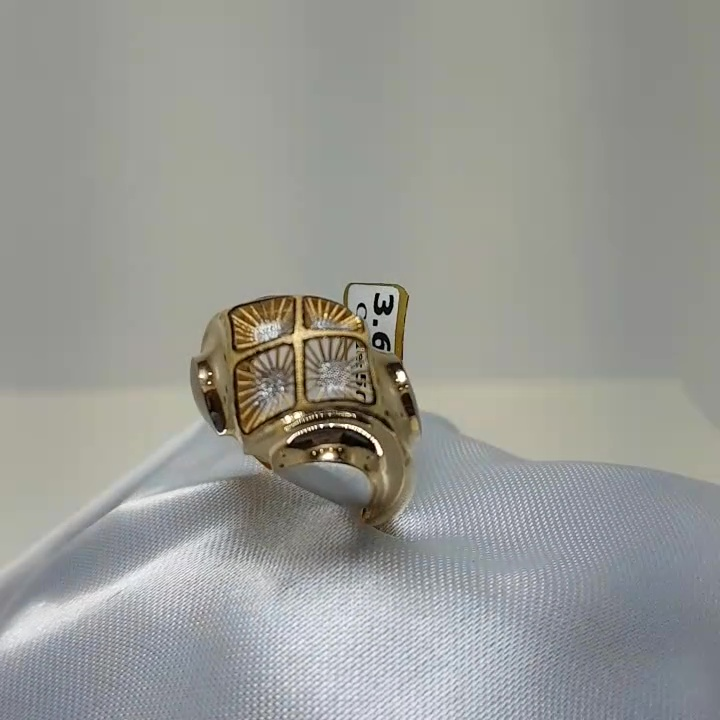Ring 2: (158, 260, 440, 552)
